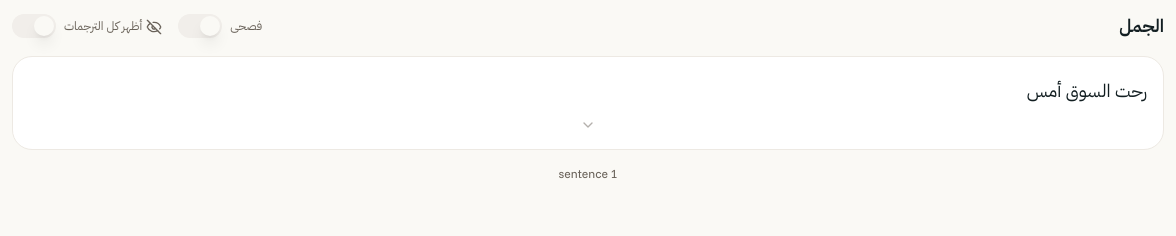
Scenario: the Fusha line › offers a retry when the conversion failed
Click the switch named "أظهر السطر بالفصحى" at (200, 26), box [178,14,222,38]
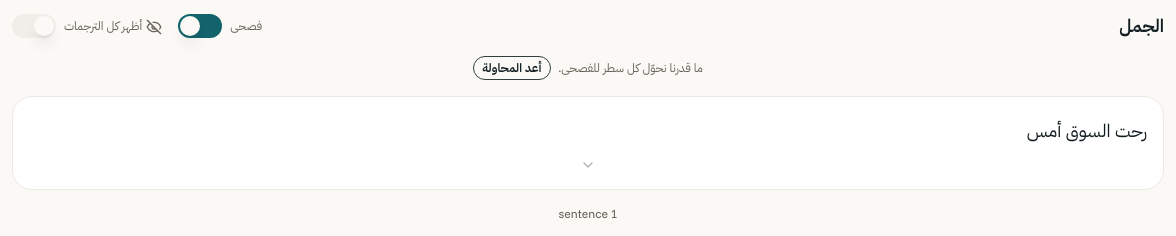
Result: the text "ما قدرنا نحوّل كل سطر للفصحى." is shown at [558,60,703,76]
Result: the button "أعد المحاولة" is shown at [473,56,550,80]
